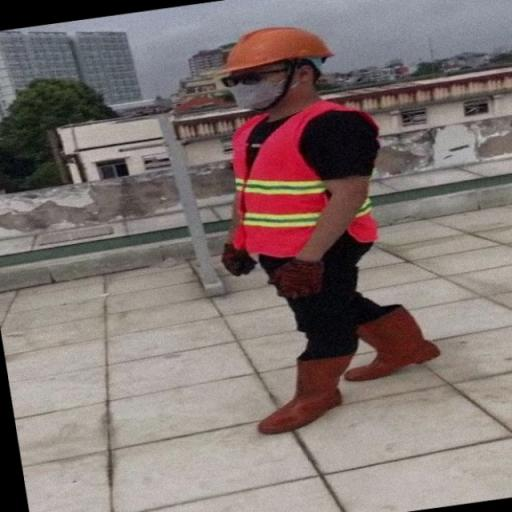Person: (199, 16, 463, 448)
boots: (342, 293, 452, 391), (247, 344, 357, 438)
gloves: (266, 256, 329, 302), (224, 244, 263, 278)
goggles: (212, 64, 302, 91)
helmet: (222, 21, 338, 77)
vest: (225, 93, 384, 267)
